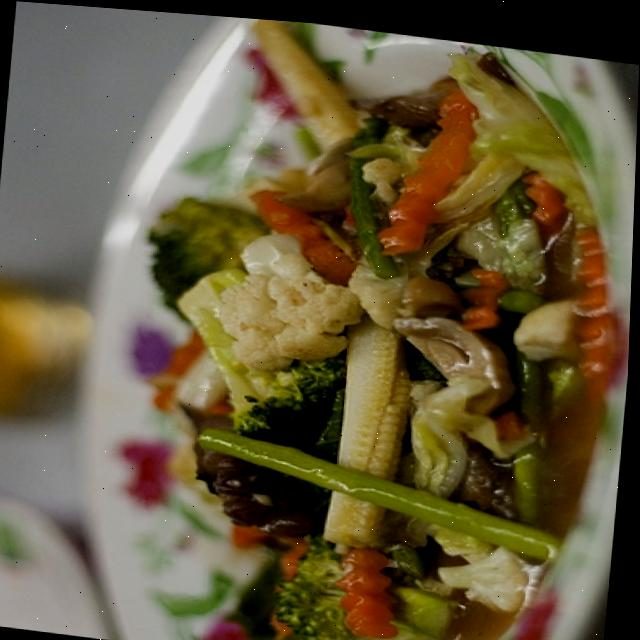蔬菜料理: (52, 4, 640, 640)
